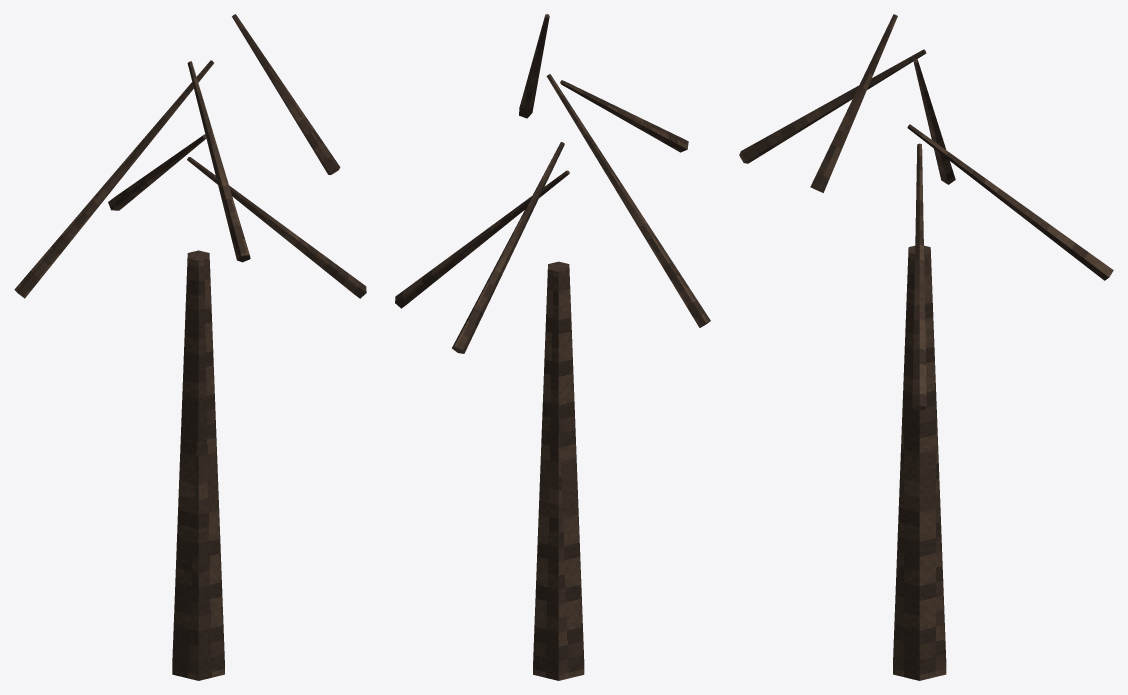
File: ENV_C_TreeDead.fbx
The picture shows the model from 3 angles, left to right: view 1: azimuth 30°, elevation 25°; view 2: azimuth 150°, elevation 25°; view 3: azimuth 270°, elevation 25°; orthographic projection. The views are drawn at different scales.
Visible parts, largest first — view 1: ENV_C_TreeDead; view 2: ENV_C_TreeDead; view 3: ENV_C_TreeDead.
Boxes of the visible parts, x1,y1,x2,y2 form: ENV_C_TreeDead: (14,14,366,680); ENV_C_TreeDead: (395,14,710,680); ENV_C_TreeDead: (739,14,1113,680).
Bounding box in the file's own units: 307 × 573 × 292.
Materials: 1 (1 with a texture image).
